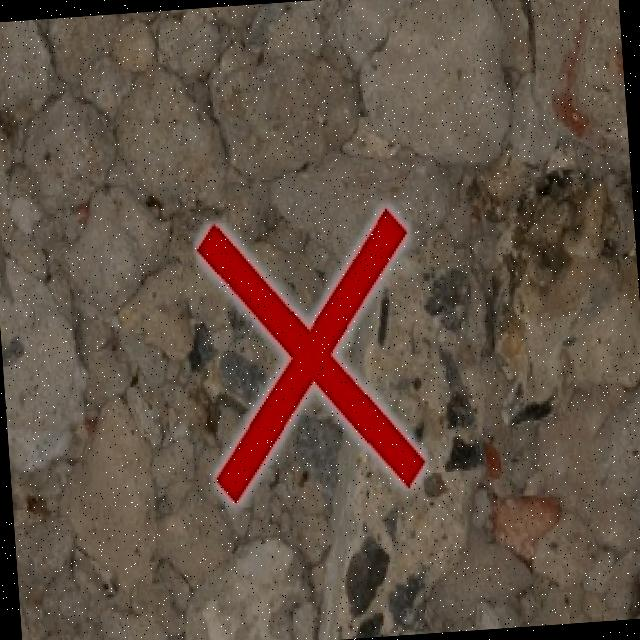x_marker: (196, 207, 425, 502)
